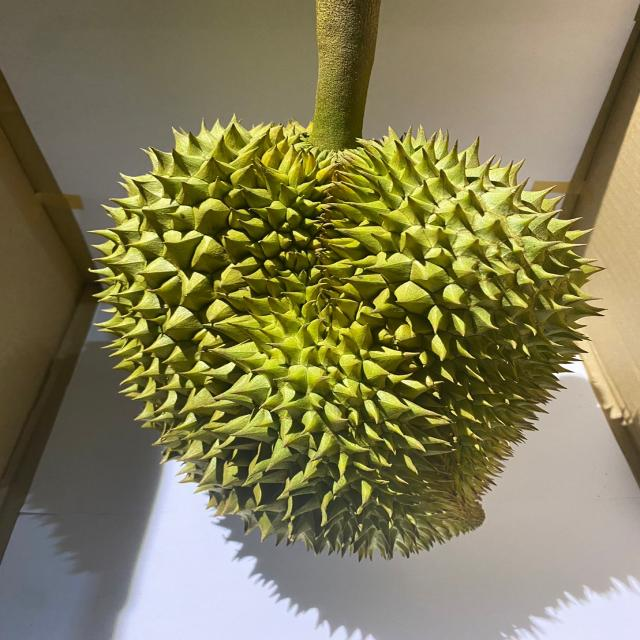immature: (89, 117, 616, 556)
